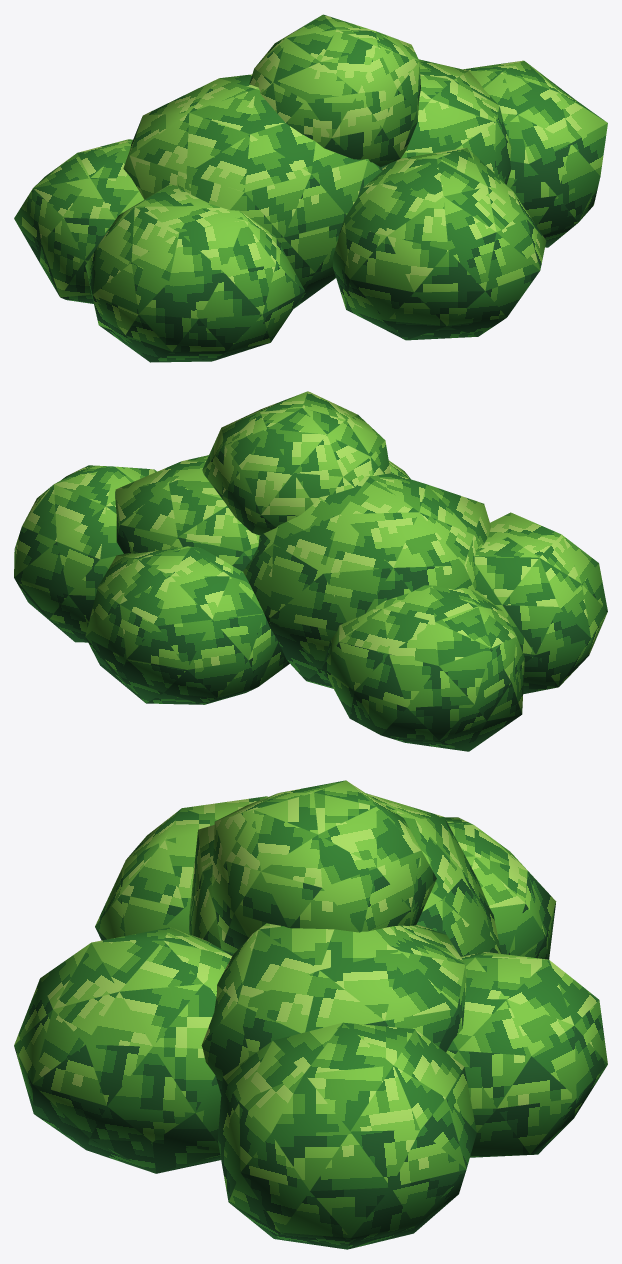
File: bush_b.glb
The picture shows the model from 3 angles, top to bottom: view 1: azimuth 30°, elevation 25°; view 2: azimuth 150°, elevation 25°; view 3: azimuth 270°, elevation 25°; orthographic projection. The views are drawn at different scales.
Visible parts, largest first — view 1: bush_b; view 2: bush_b; view 3: bush_b.
Part boxes in pixels (x1,y1,x2,y2): bush_b: (14, 14, 607, 362); bush_b: (14, 391, 607, 751); bush_b: (14, 780, 607, 1249).
Size of the model in its own units: 2.18 by 0.997 by 1.65.
Materials: 1 (1 with a texture image).
